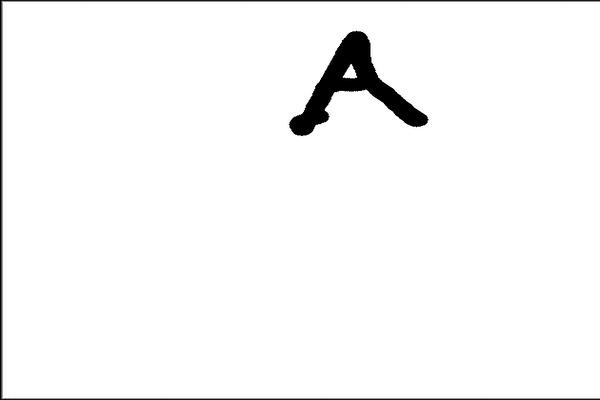A: (275, 22, 438, 142)
